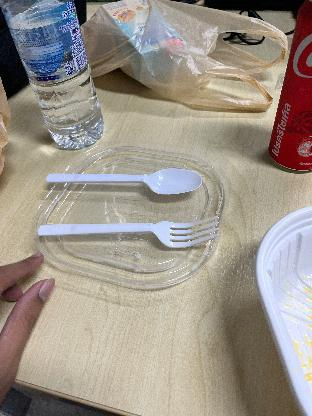Others: (32, 214, 234, 252), (41, 166, 206, 200)
Plastic Bottle: (0, 0, 110, 154)
